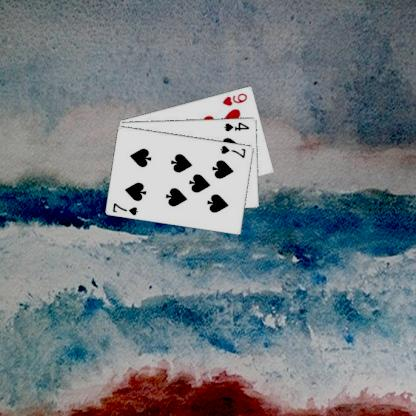4S: (222, 120, 250, 132)
7S: (110, 200, 140, 217), (218, 142, 247, 159)
9H: (219, 90, 249, 107)
